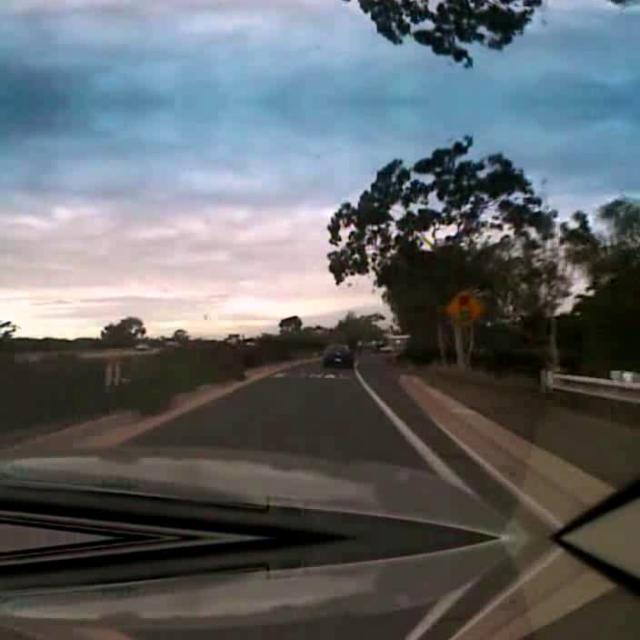signalAhead: (444, 286, 484, 326)
